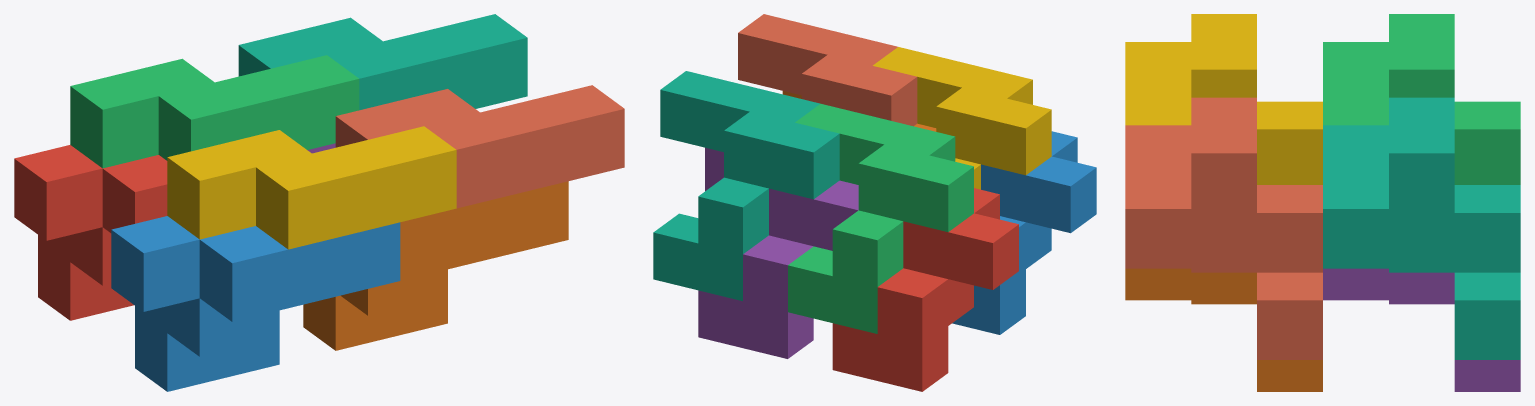
File: tiling.obj
The picture shows the model from 3 angles, left to right: view 1: azimuth 30°, elevation 25°; view 2: azimuth 150°, elevation 25°; view 3: azimuth 270°, elevation 25°; orthographic projection. The views are drawn at different scales.
Parts seen in each view (by area): view 1: copy_1_domain_2, copy_1_domain_4, copy_1_domain_3, copy_1_domain_8, copy_1_domain_6, copy_1_domain_1, copy_1_domain_7; view 2: copy_1_domain_7, copy_1_domain_3, copy_1_domain_1, copy_1_domain_5, copy_1_domain_4, copy_1_domain_8, copy_1_domain_2; view 3: copy_1_domain_7, copy_1_domain_8, copy_1_domain_3, copy_1_domain_4, copy_1_domain_5, copy_1_domain_6.
Part boxes in pixels (<box>): copy_1_domain_2: <box>111,216,400,391</box>; copy_1_domain_4: <box>167,126,456,249</box>; copy_1_domain_3: <box>70,55,359,168</box>; copy_1_domain_8: <box>335,85,624,208</box>; copy_1_domain_6: <box>303,181,568,350</box>; copy_1_domain_1: <box>14,145,167,320</box>; copy_1_domain_7: <box>238,14,527,110</box>; copy_1_domain_7: <box>653,71,839,301</box>; copy_1_domain_3: <box>788,103,973,333</box>; copy_1_domain_1: <box>832,188,1018,391</box>; copy_1_domain_5: <box>698,147,858,358</box>; copy_1_domain_4: <box>873,47,1051,189</box>; copy_1_domain_8: <box>738,14,917,126</box>; copy_1_domain_2: <box>952,131,1096,334</box>; copy_1_domain_7: <box>1323,97,1520,359</box>; copy_1_domain_8: <box>1125,97,1322,359</box>; copy_1_domain_3: <box>1323,14,1520,184</box>; copy_1_domain_4: <box>1125,14,1322,184</box>; copy_1_domain_5: <box>1323,268,1520,391</box>; copy_1_domain_6: <box>1125,268,1322,391</box>.
Bounding box in the file's own units: 8 × 4 × 6.
